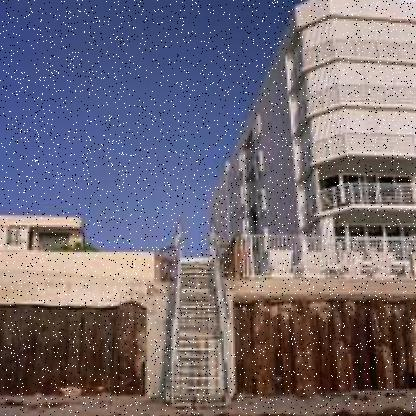stair_up: (162, 240, 235, 402)
